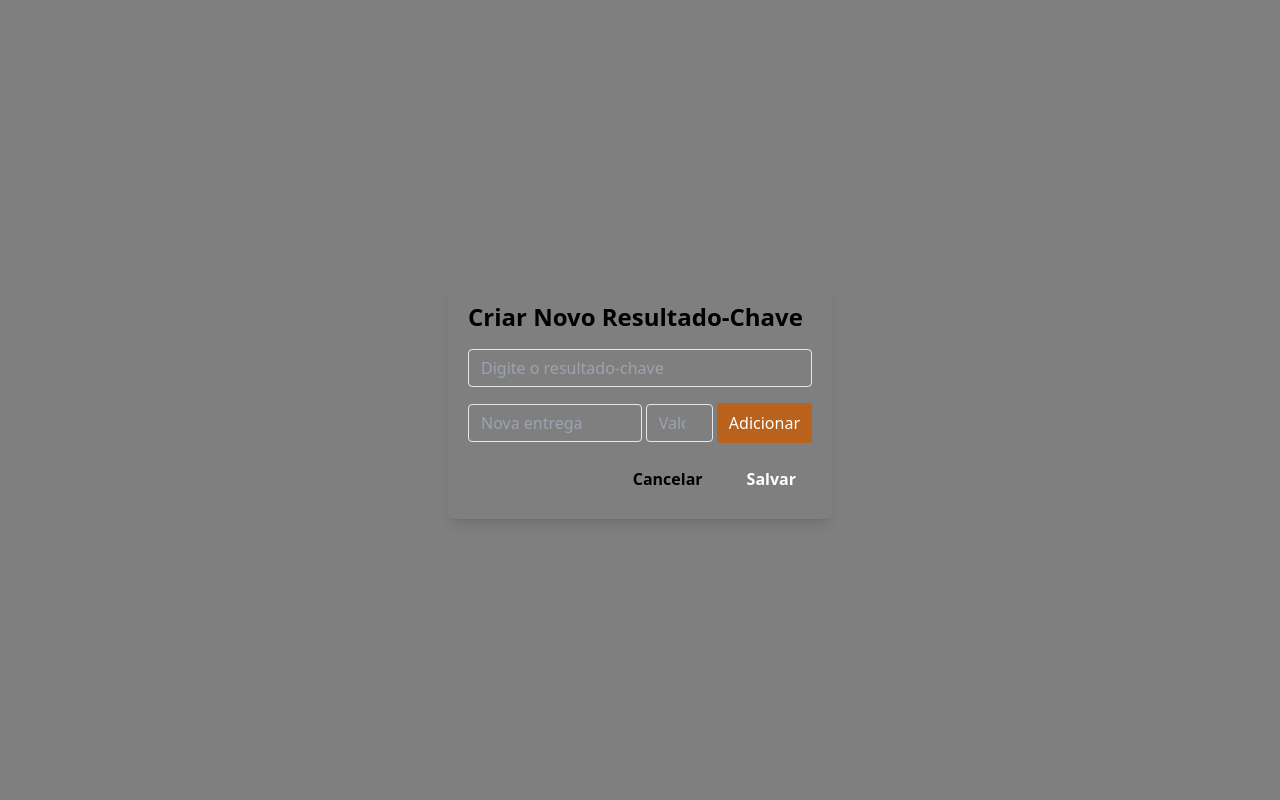
Test: CreateKeyResultModal › deve adicionar uma nova entrega
This screenshot has width=1280, height=800.
Type "Entrega Teste" into the field with placeholder "Nova entrega" at (555,423), box [468,404,642,442]
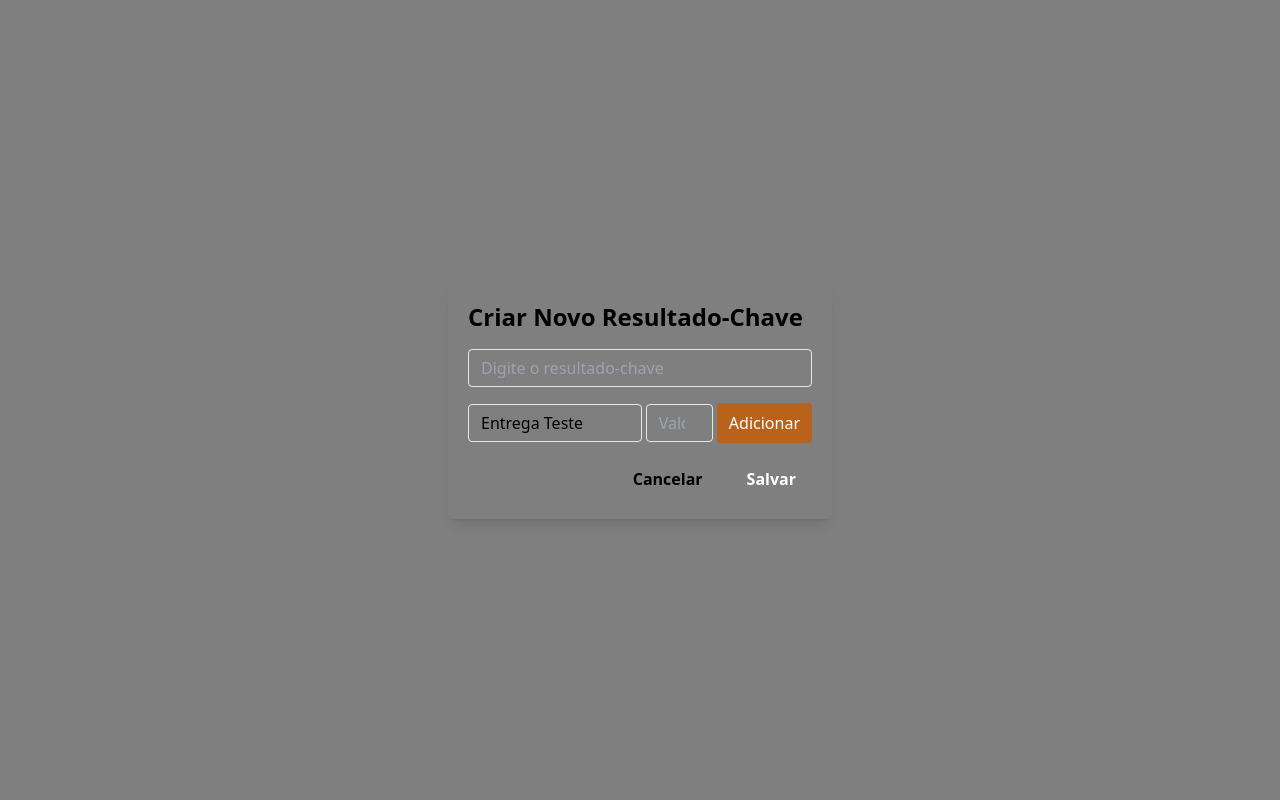
Type "50" into the number field with placeholder "Valor%" at (679,423), box [646,404,713,442]
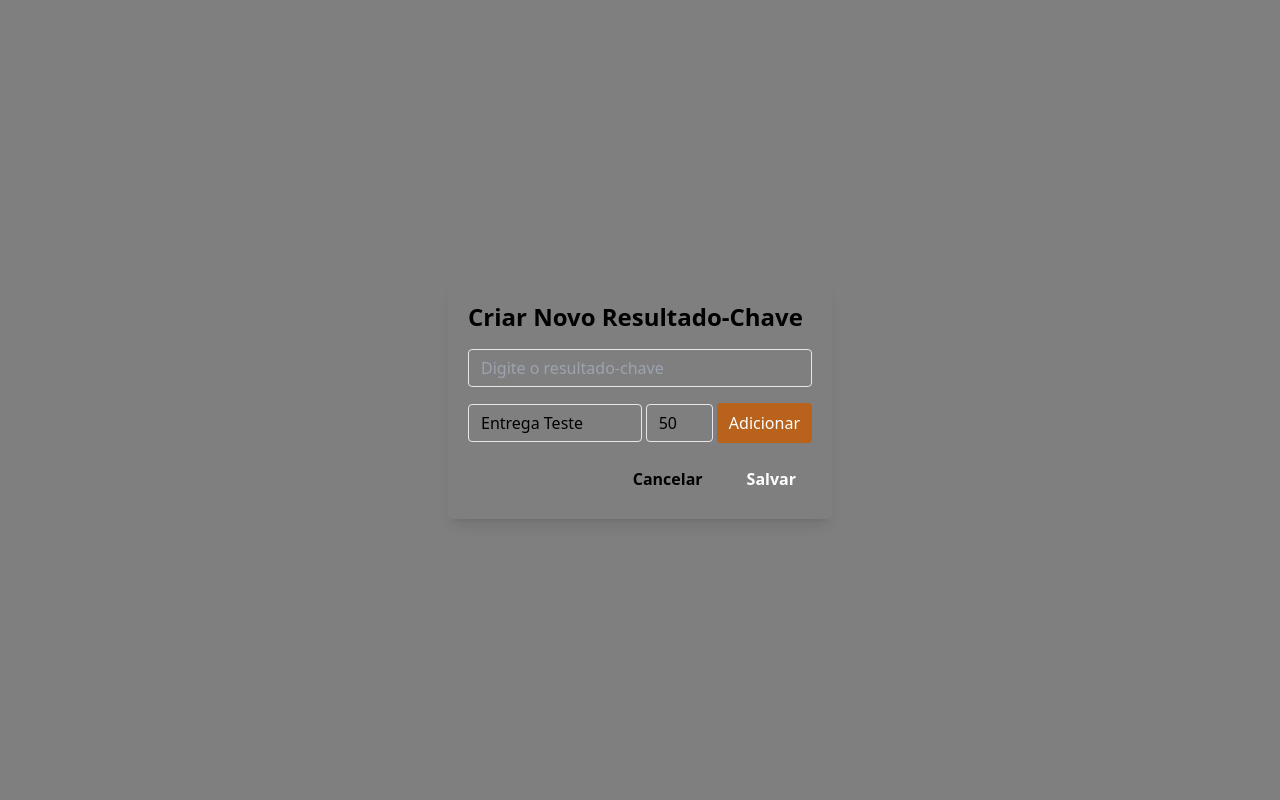
Click the button "Adicionar" at (764,423), box [717,403,812,443]
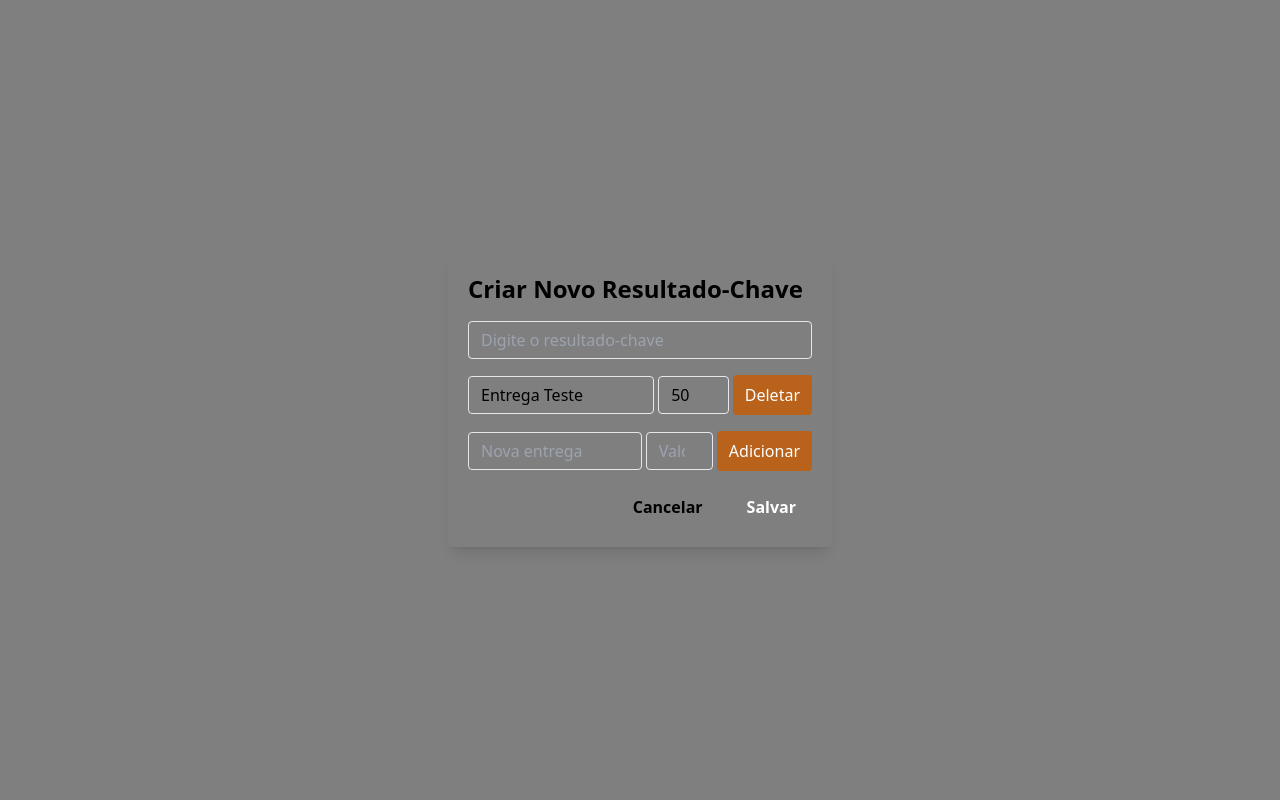
Now the field showing "Entrega Teste" is shown, box [468,376,654,414]
Now the number field showing "50" is shown, box [658,376,729,414]
